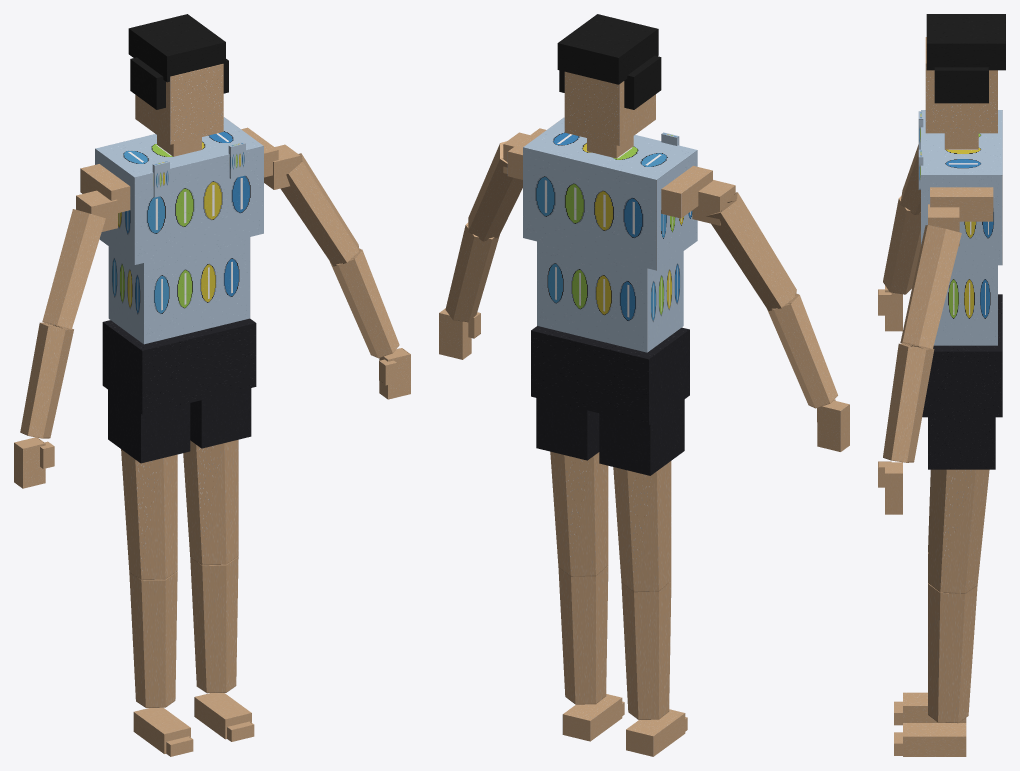
Rendered from psx_base_male.glb.
3 views of the same model, side by side, from view 1: azimuth 30°, elevation 25°; view 2: azimuth 150°, elevation 25°; view 3: azimuth 270°, elevation 25° (orthographic). The views are drawn at different scales.
Parts seen in each view (by area): view 1: PSX_Character; view 2: PSX_Character; view 3: PSX_Character.
Part boxes in pixels (x1,y1,x2,y2): PSX_Character: (14, 14, 410, 756); PSX_Character: (439, 14, 849, 756); PSX_Character: (878, 14, 1005, 756).
Bounding box in the file's own units: 1.02 × 1.72 × 0.2825.
1 material, 1 textured.
